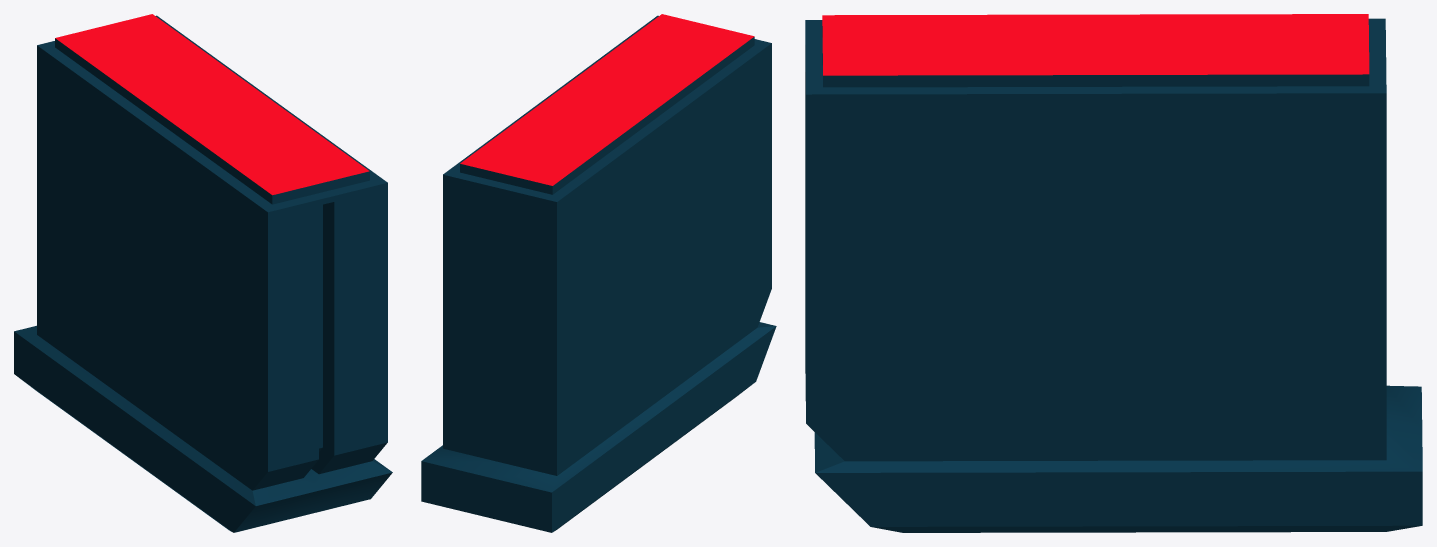
File: Cargadores.fbx
3 renders of one model, left to right at view 1: azimuth 30°, elevation 25°; view 2: azimuth 150°, elevation 25°; view 3: azimuth 270°, elevation 25°, orthographic. The views are drawn at different scales.
Parts seen in each view (by area): view 1: Cargador 1, Cargador 5, Cargador 2, Cargador 6, Cargador 3, Cargador 4, Cargador Correcto; view 2: Cargador 1, Cargador 2, Cargador 5, Cargador 6, Cargador 4, Cargador Correcto, Cargador 3; view 3: Cargador 1, Cargador 2, Cargador 5.
Part boxes in pixels (x1,y1,x2,y2): Cargador 1: (14, 14, 387, 532); Cargador 5: (14, 14, 392, 532); Cargador 2: (14, 14, 380, 522); Cargador 6: (37, 52, 267, 470); Cargador 3: (37, 16, 307, 471); Cargador 4: (37, 52, 267, 470); Cargador Correcto: (37, 94, 258, 401); Cargador 1: (421, 14, 776, 532); Cargador 2: (436, 14, 771, 526); Cargador 5: (423, 15, 776, 531); Cargador 6: (557, 102, 770, 446); Cargador 4: (557, 110, 759, 445); Cargador Correcto: (557, 136, 761, 444); Cargador 3: (557, 40, 758, 445); Cargador 1: (805, 14, 1422, 532); Cargador 2: (805, 14, 1422, 532); Cargador 5: (805, 14, 1421, 524).
Bounding box in the file's own units: 12.48 × 30.34 × 37.69.
